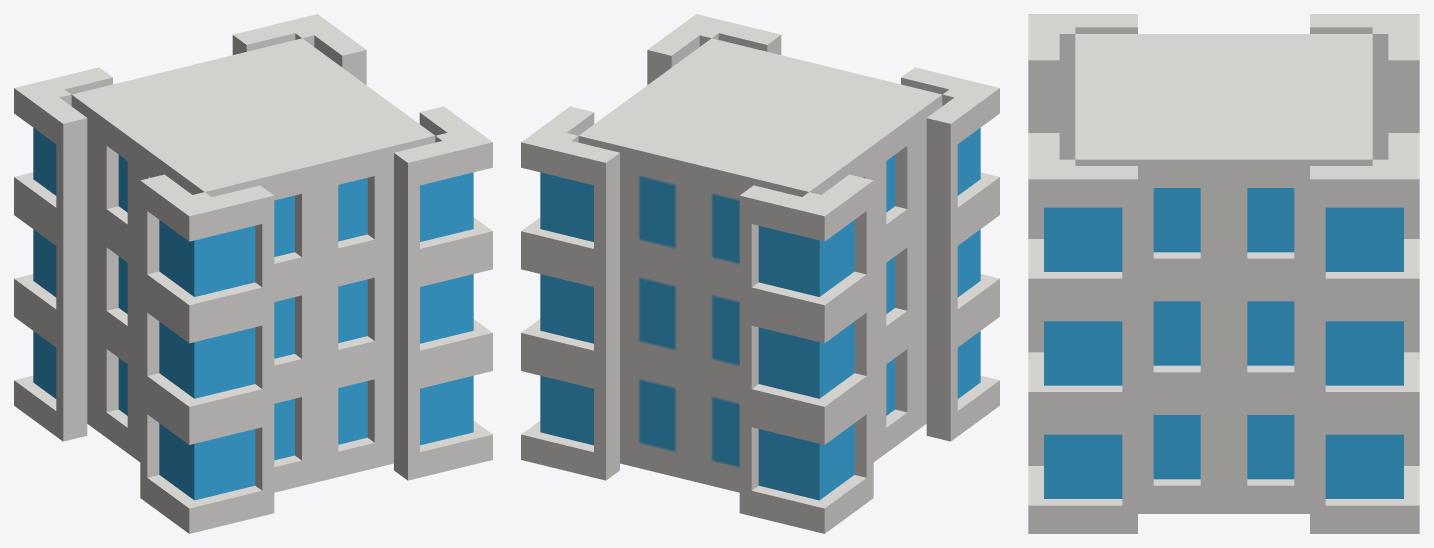
File: TwentyeightModel.fbx
3 renders of one model, left to right at view 1: azimuth 30°, elevation 25°; view 2: azimuth 150°, elevation 25°; view 3: azimuth 270°, elevation 25°, orthographic. The views are drawn at different scales.
Visible parts, largest first — view 1: Box; view 2: Box; view 3: Box.
Boxes of the visible parts, bbox=[...] form: Box: bbox=[14, 14, 492, 533]; Box: bbox=[521, 14, 999, 533]; Box: bbox=[1028, 14, 1419, 533].
Size of the model in its own units: 25 by 25 by 25.
Materials: 1 (1 with a texture image).
